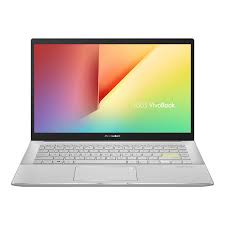laptop: (12, 36, 219, 191)
